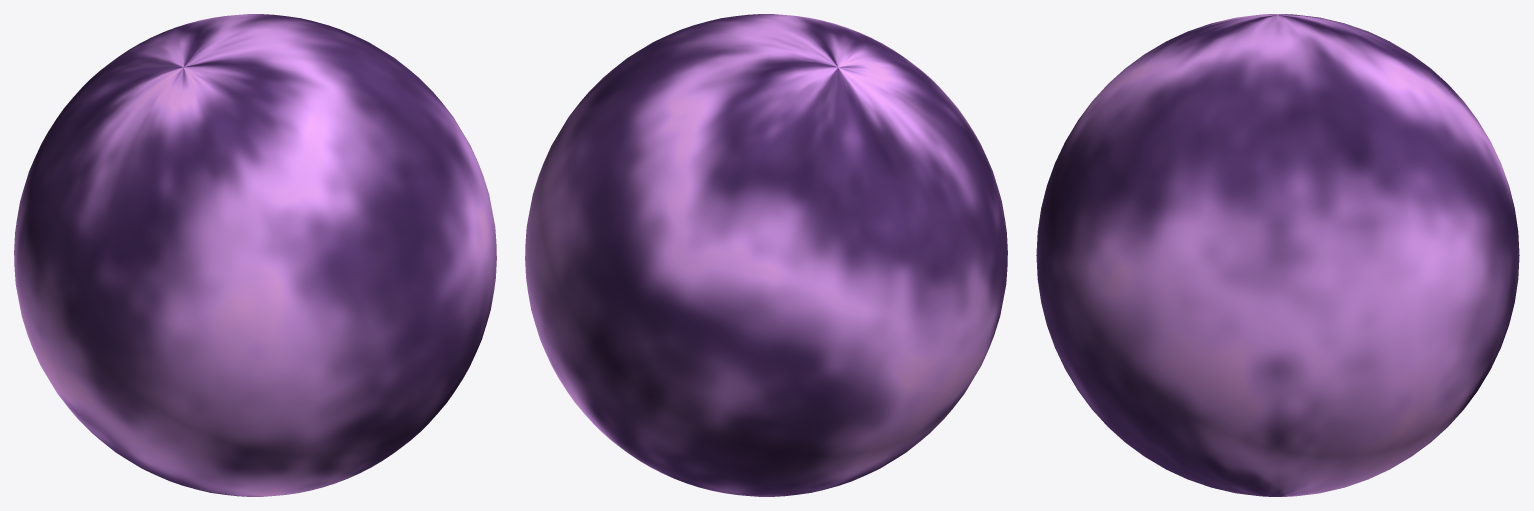
File: singularis.glb
3 views of the same model, side by side, from view 1: azimuth 30°, elevation 25°; view 2: azimuth 150°, elevation 25°; view 3: azimuth 270°, elevation 25° (orthographic).
Parts seen in each view (by area): view 1: Surface; view 2: Surface; view 3: Surface.
Boxes of the visible parts, <box> form: Surface: <box>14,14,496,496</box>; Surface: <box>525,14,1007,496</box>; Surface: <box>1036,14,1519,496</box>.
Bounding box in the file's own units: 2 × 2 × 2.
1 material, 1 textured.
